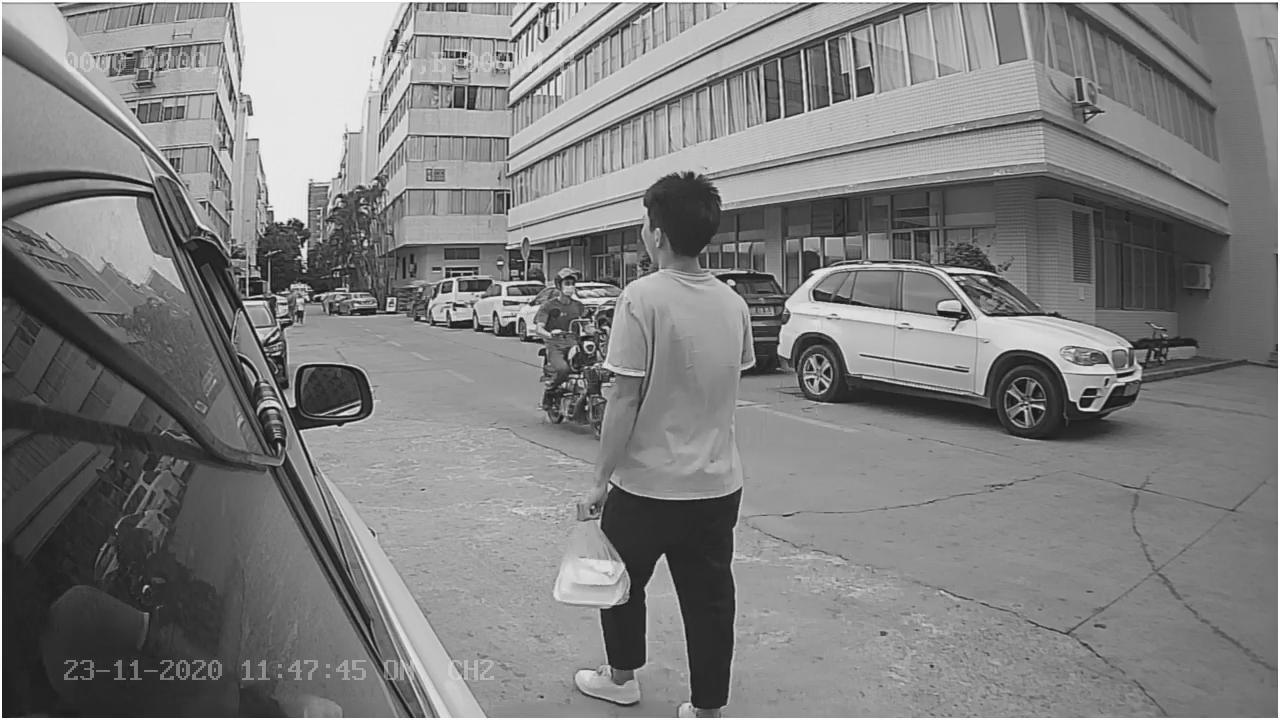person: (575, 165, 770, 715)
